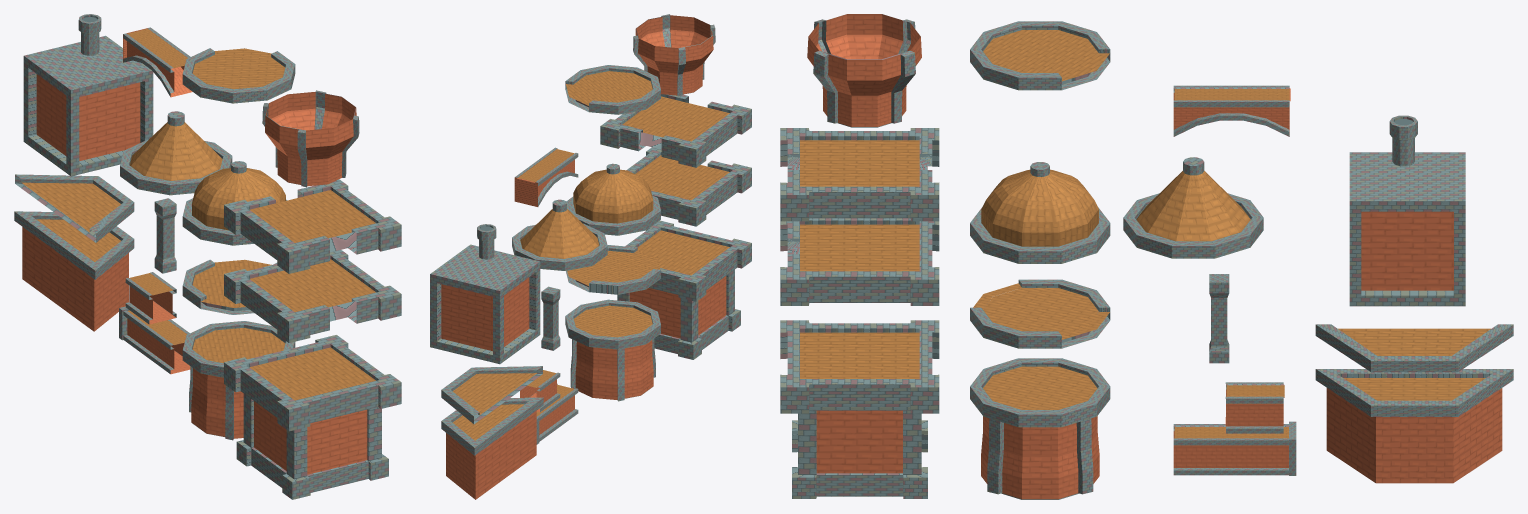
Rendered from Enviroment Castle 0.fbx.
3 views of the same model, side by side, from view 1: azimuth 30°, elevation 25°; view 2: azimuth 150°, elevation 25°; view 3: azimuth 270°, elevation 25° (orthographic). The views are drawn at different scales.
Visible parts, largest first — view 1: Cube.006, Cube.008, Cube.007, Cube.010, Cube.009, Cylinder.007, Cylinder.004, Cube.003, Cylinder.005, Cube.005, Cylinder.003, Cylinder.001 (+8 smaller); view 2: Cube.006, Cube.010, Cube.008, Cube.009, Cube.007, Cylinder.007, Cylinder.003, Cylinder.004, Cylinder, Cube.003, Cylinder.001, Cylinder.005 (+8 smaller); view 3: Cube.006, Cube.008, Cube.010, Cube.009, Cube.007, Cube.003, Cylinder.007, Cylinder.003, Cylinder.004, Cylinder, Cylinder.001, Cylinder.005 (+8 smaller).
Part boxes in pixels (left/top/right/bottom): Cube.006: left=23, top=35, right=153, bottom=176; Cube.008: left=224, top=335, right=401, bottom=431; Cube.007: left=236, top=393, right=388, bottom=499; Cube.010: left=224, top=179, right=401, bottom=273; Cube.009: left=224, top=250, right=401, bottom=342; Cylinder.007: left=262, top=90, right=359, bottom=187; Cylinder.004: left=120, top=111, right=232, bottom=195; Cube.003: left=22, top=227, right=128, bottom=331; Cylinder.005: left=182, top=48, right=295, bottom=103; Cube.005: left=15, top=174, right=134, bottom=242; Cylinder.003: left=182, top=161, right=287, bottom=245; Cylinder.001: left=182, top=321, right=295, bottom=377; Cube.006: left=430, top=244, right=540, bottom=364; Cube.010: left=600, top=94, right=751, bottom=167; Cube.008: left=625, top=220, right=751, bottom=301; Cube.009: left=626, top=147, right=751, bottom=226; Cube.007: left=617, top=269, right=740, bottom=359; Cylinder.007: left=633, top=14, right=715, bottom=96; Cylinder.003: left=566, top=163, right=660, bottom=235; Cylinder.004: left=512, top=199, right=607, bottom=270; Cylinder: left=570, top=339, right=655, bottom=401; Cube.003: left=446, top=411, right=536, bottom=499; Cylinder.001: left=565, top=299, right=660, bottom=349; Cylinder.005: left=565, top=65, right=660, bottom=114; Cube.006: left=1349, top=152, right=1465, bottom=306; Cube.008: left=780, top=320, right=939, bottom=413; Cube.010: left=780, top=128, right=939, bottom=221; Cube.009: left=780, top=218, right=939, bottom=305; Cube.007: left=792, top=410, right=927, bottom=498; Cube.003: left=1326, top=388, right=1502, bottom=483; Cylinder.007: left=807, top=14, right=921, bottom=127; Cylinder.003: left=970, top=162, right=1110, bottom=263; Cylinder.004: left=1123, top=157, right=1263, bottom=258; Cylinder: left=981, top=416, right=1099, bottom=499; Cylinder.001: left=970, top=358, right=1110, bottom=427; Cylinder.005: left=970, top=21, right=1110, bottom=90.
Size of the model in its own units: 823 by 2511 by 3796.
